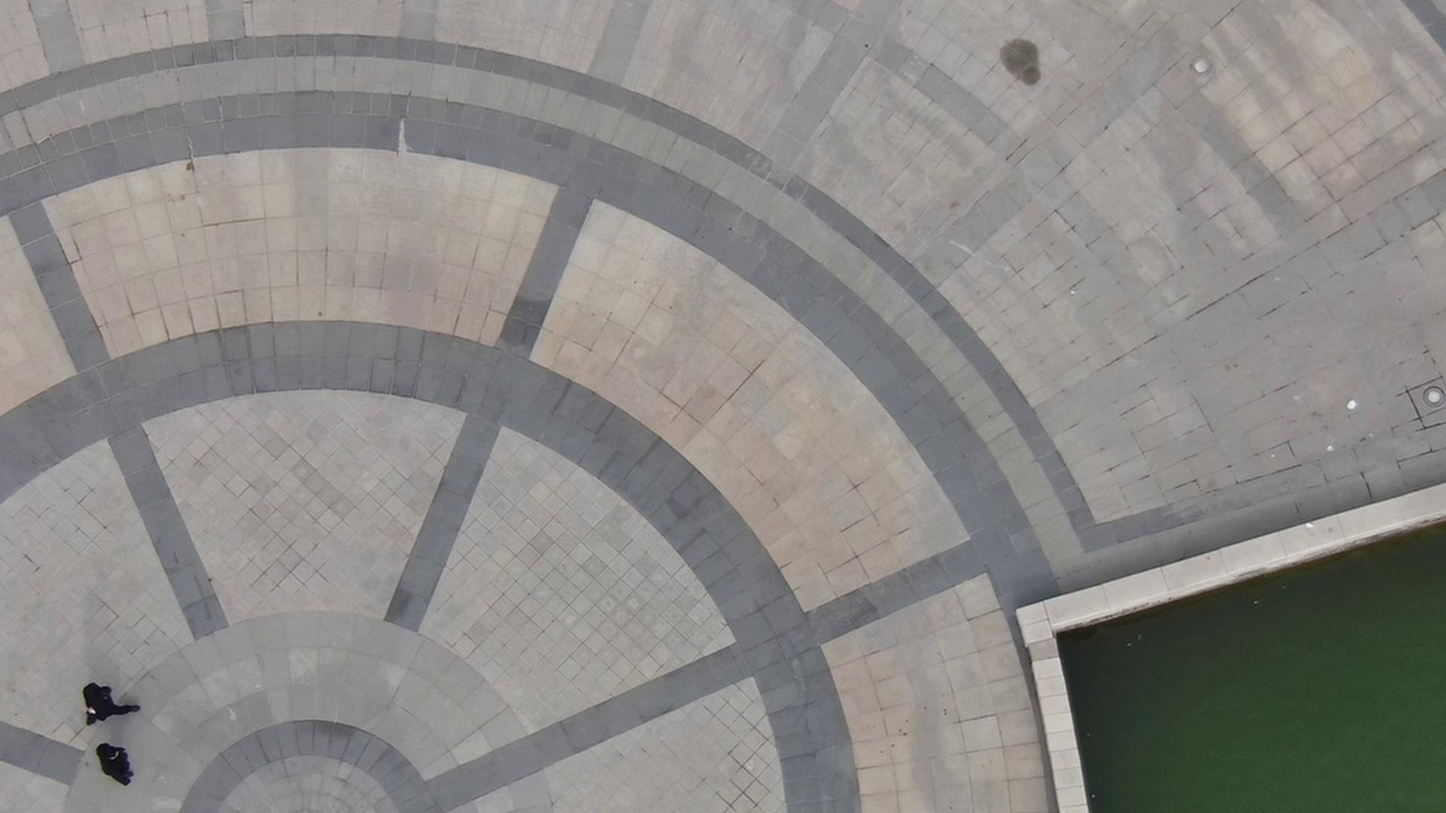human: (93, 663, 155, 721), (112, 727, 163, 790)
